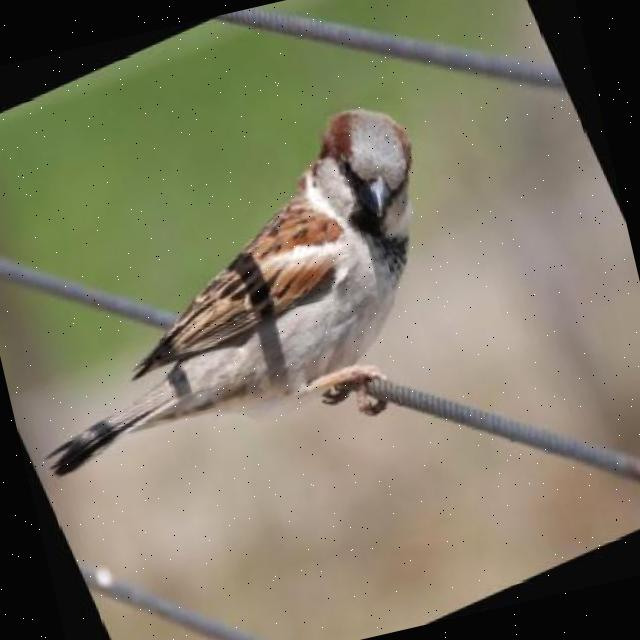sparrow: (0, 72, 529, 557)
